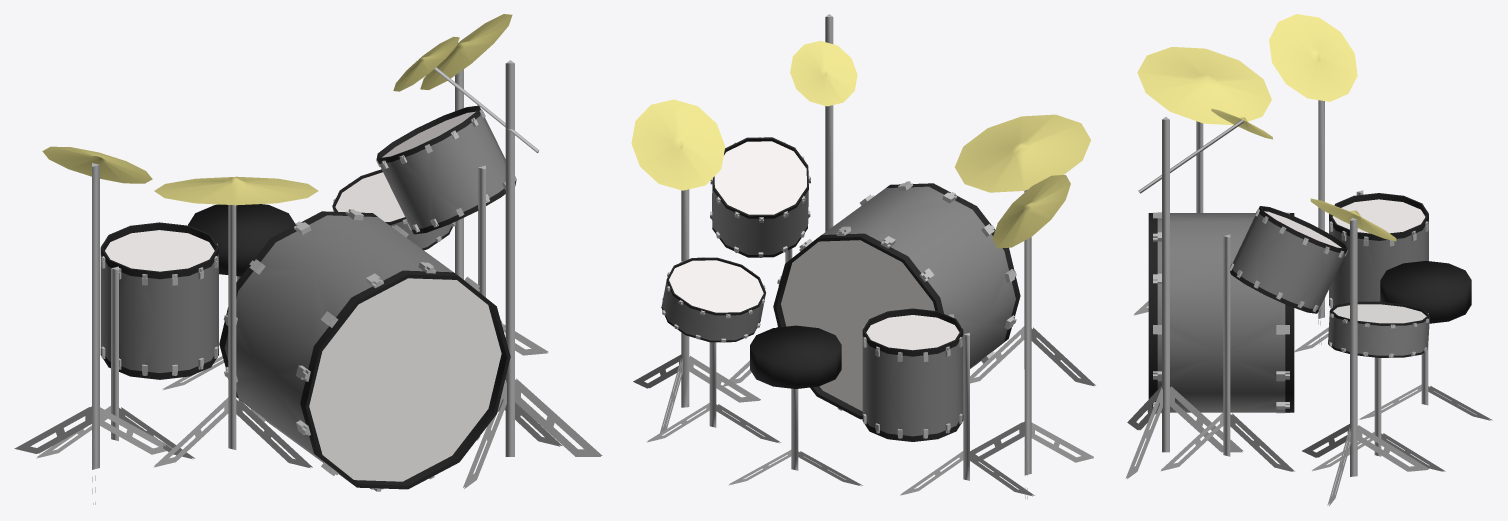
The model's file is drum_kit.dae.
3 views of the same model, side by side, from view 1: azimuth 30°, elevation 25°; view 2: azimuth 150°, elevation 25°; view 3: azimuth 270°, elevation 25° (orthographic). The views are drawn at different scales.
Visible parts, largest first — view 1: ID72 (×6), ID29 (×5), ID66 (×4), Stand (×6), Cymbal (×4), ID60 (×6), ID133, ID85 (×3), ID91 (×3), ID21; view 2: Cymbal (×4), ID66 (×6), ID29 (×6), ID37 (×2), ID72 (×6), Stand (×6), ID133, ID60 (×4), ID21 (×2), ID85 (×3), ID91 (×2); view 3: ID66 (×5), Cymbal (×4), ID29 (×5), Stand (×7), ID133, ID60 (×5), ID72 (×4), ID85 (×3), ID91 (×3), ID21, ID127.
Part boxes in pixels (x1=…): ID72 (×6): x1=105, y1=111, x2=501, y2=481; ID29 (×5): x1=100, y1=154, x2=504, y2=453; ID66 (×4): x1=100, y1=122, x2=489, y2=481; Stand (×6): x1=92, y1=60, x2=514, y2=469; Cymbal (×4): x1=42, y1=14, x2=512, y2=205; ID60 (×6): x1=100, y1=105, x2=510, y2=489; ID133: x1=188, y1=204, x2=295, y2=276; ID85 (×3): x1=100, y1=379, x2=600, y2=468; ID91 (×3): x1=14, y1=381, x2=506, y2=488; ID21: x1=219, y1=211, x2=347, y2=427; Cymbal (×4): x1=631, y1=40, x2=1090, y2=248; ID66 (×6): x1=679, y1=184, x2=1015, y2=396; ID29 (×6): x1=677, y1=193, x2=983, y2=436; ID37 (×2): x1=781, y1=240, x2=934, y2=411; ID72 (×6): x1=669, y1=141, x2=959, y2=350; Stand (×6): x1=681, y1=14, x2=1031, y2=480; ID133: x1=750, y1=325, x2=841, y2=388; ID60 (×4): x1=760, y1=137, x2=1020, y2=364; ID21 (×2): x1=773, y1=233, x2=943, y2=419; ID85 (×3): x1=689, y1=328, x2=1093, y2=462; ID91 (×2): x1=959, y1=327, x2=1024, y2=461; ID66 (×5): x1=1157, y1=213, x2=1426, y2=412; Cymbal (×4): x1=1137, y1=14, x2=1396, y2=241; ID29 (×5): x1=1221, y1=213, x2=1425, y2=412; Stand (×7): x1=1162, y1=100, x2=1428, y2=476; ID133: x1=1380, y1=261, x2=1471, y2=323; ID60 (×5): x1=1148, y1=193, x2=1428, y2=407; ID72 (×4): x1=1332, y1=199, x2=1426, y2=323; ID85 (×3): x1=1170, y1=387, x2=1428, y2=471; ID91 (×3): x1=1127, y1=388, x2=1349, y2=478; ID21: x1=1285, y1=304, x2=1294, y2=412; ID127: x1=1138, y1=119, x2=1243, y2=193.
Size of the model in its own units: 270 by 202 by 201.
